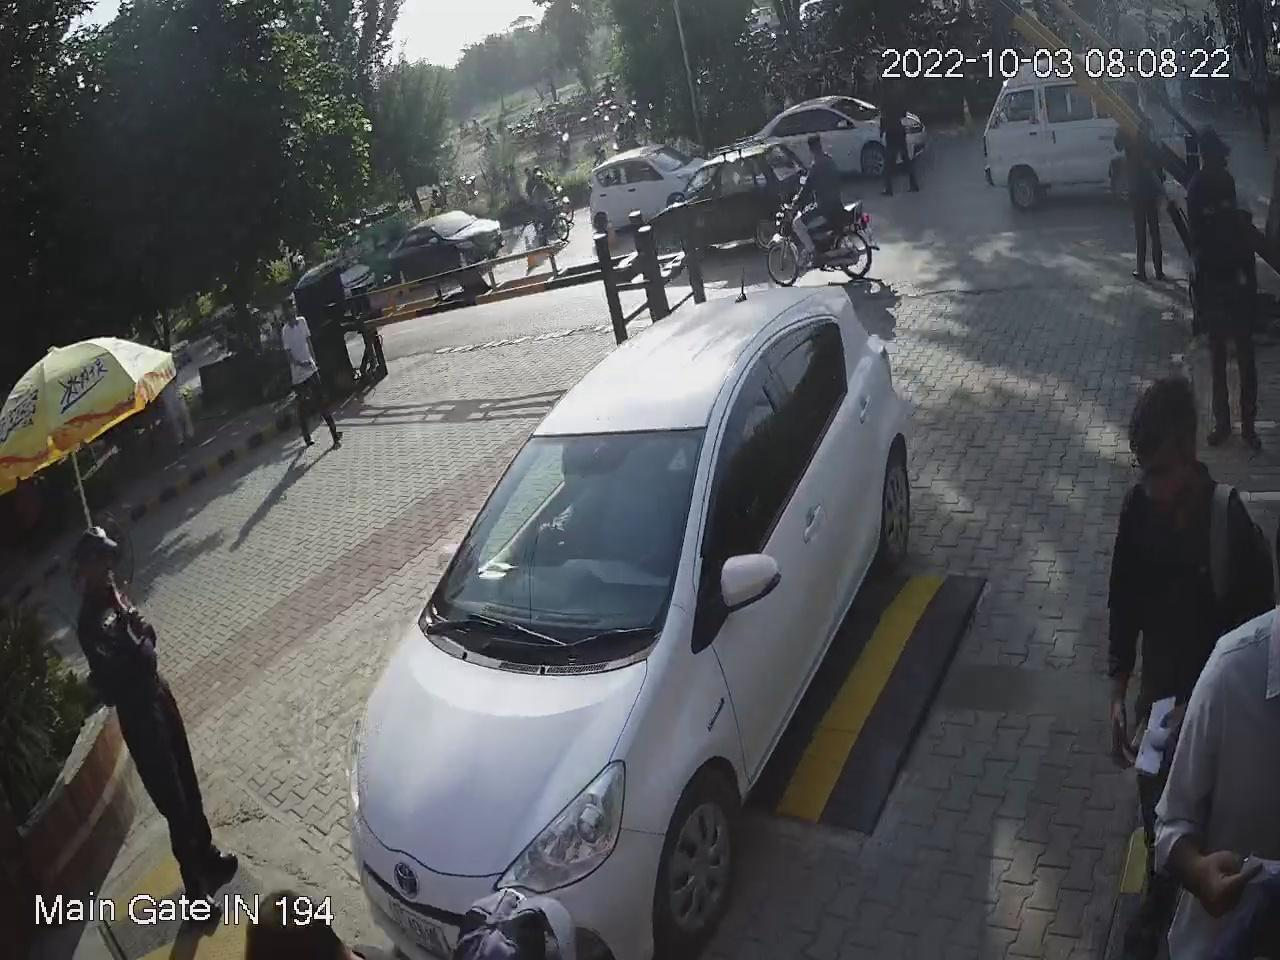windshield: (413, 419, 711, 678)
